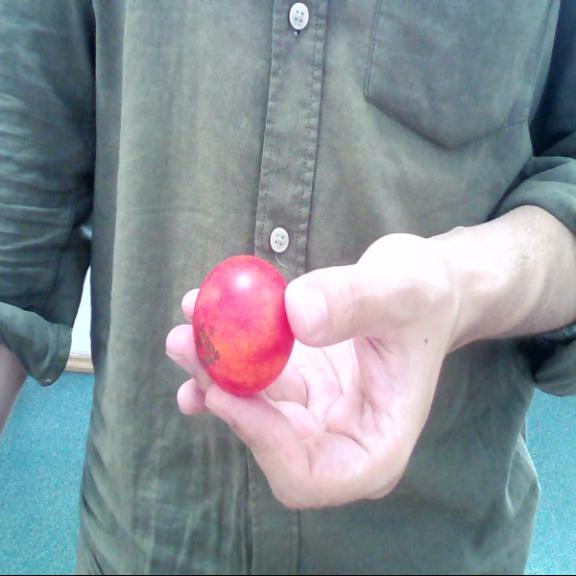ball: (192, 256, 296, 400)
